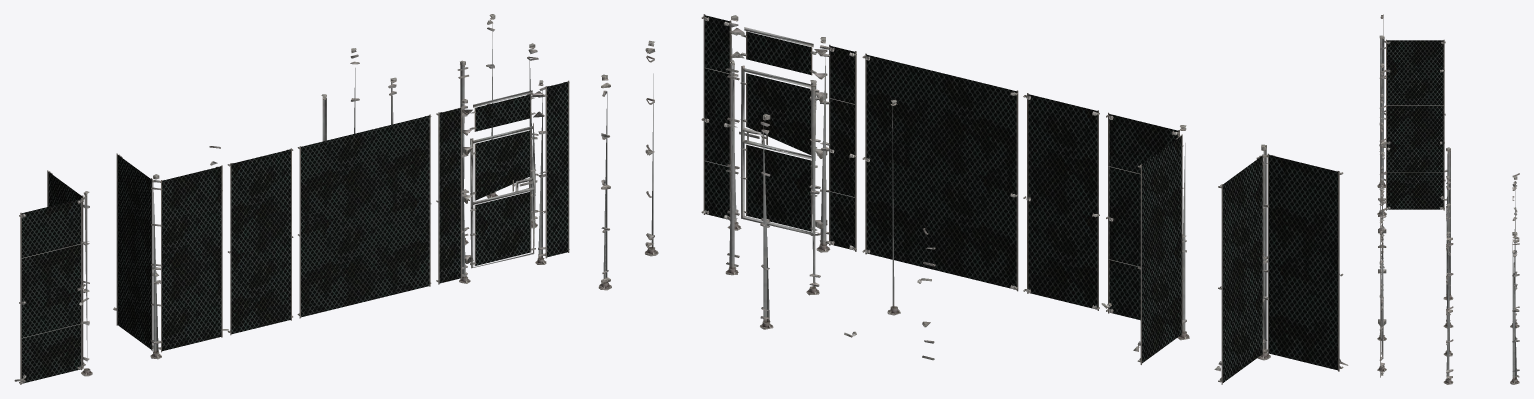
The model's file is modular_chainlink_fence_lod2.glb.
The picture shows the model from 3 angles, left to right: view 1: azimuth 30°, elevation 25°; view 2: azimuth 150°, elevation 25°; view 3: azimuth 270°, elevation 25°; orthographic projection. The views are drawn at different scales.
Visible parts, largest first — view 1: modular_chainlink_fence_door_gate, modular_chainlink_fence_door_latch; view 2: modular_chainlink_fence_door_gate, modular_chainlink_fence_door_latch; view 3: modular_chainlink_fence_door_gate, modular_chainlink_fence_door_latch.
Part boxes in pixels (bbox=[...]): modular_chainlink_fence_door_gate: bbox=[21, 82, 568, 383]; modular_chainlink_fence_door_latch: bbox=[14, 14, 569, 384]; modular_chainlink_fence_door_gate: bbox=[705, 15, 1337, 382]; modular_chainlink_fence_door_latch: bbox=[598, 14, 1348, 384]; modular_chainlink_fence_door_gate: bbox=[1387, 40, 1443, 209]; modular_chainlink_fence_door_latch: bbox=[1377, 14, 1519, 384].
Bounding box in the file's own units: 8.11 × 2.5 × 2.15.
Materials: 2 (2 with a texture image).
